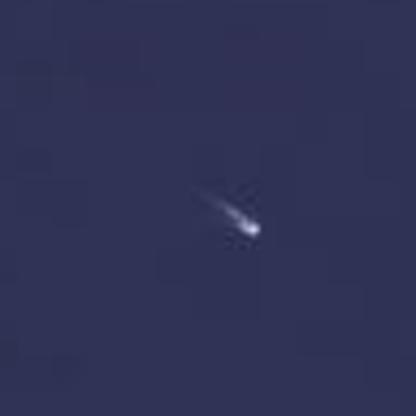ship: (231, 210, 265, 240)
